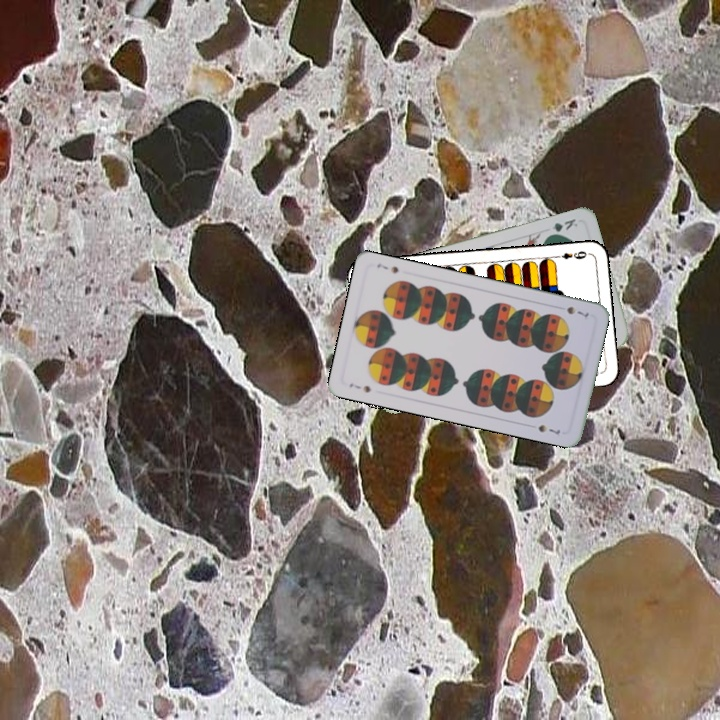E9: (550, 247, 591, 262)
GK: (543, 214, 580, 239)
S7: (563, 302, 591, 319), (345, 379, 374, 395)
